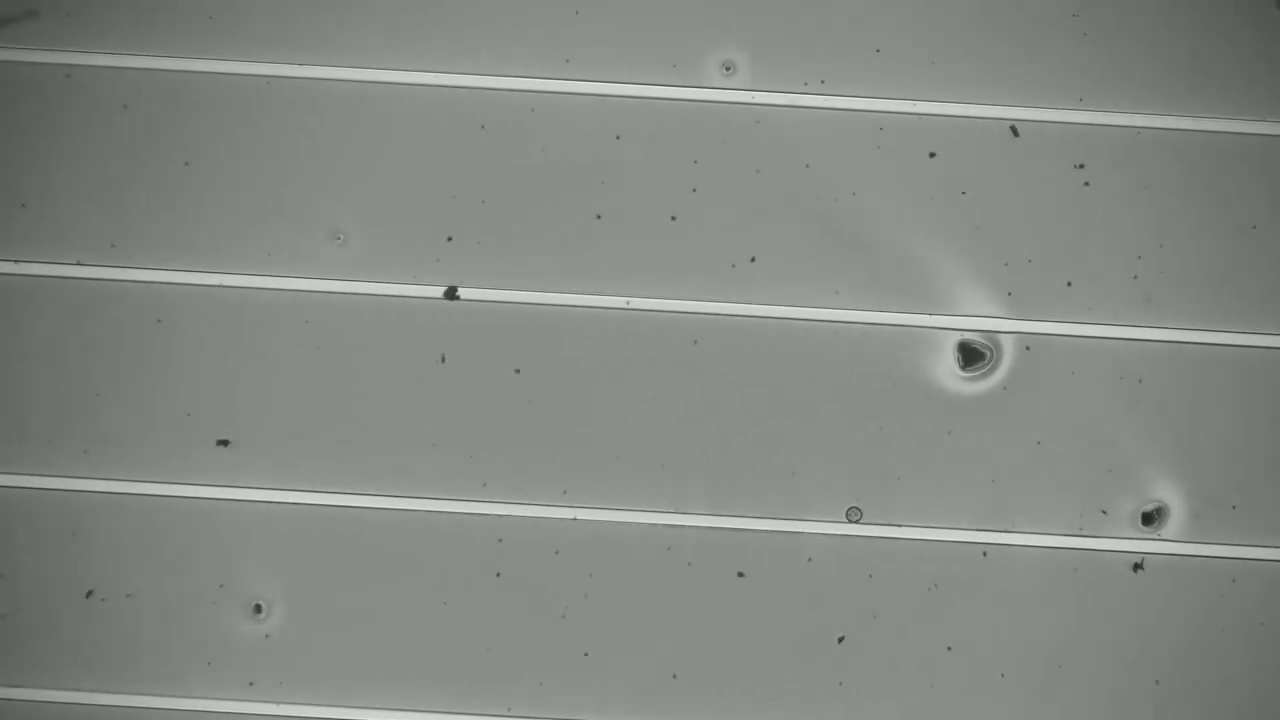stains_enbedded: (436, 278, 467, 312)
